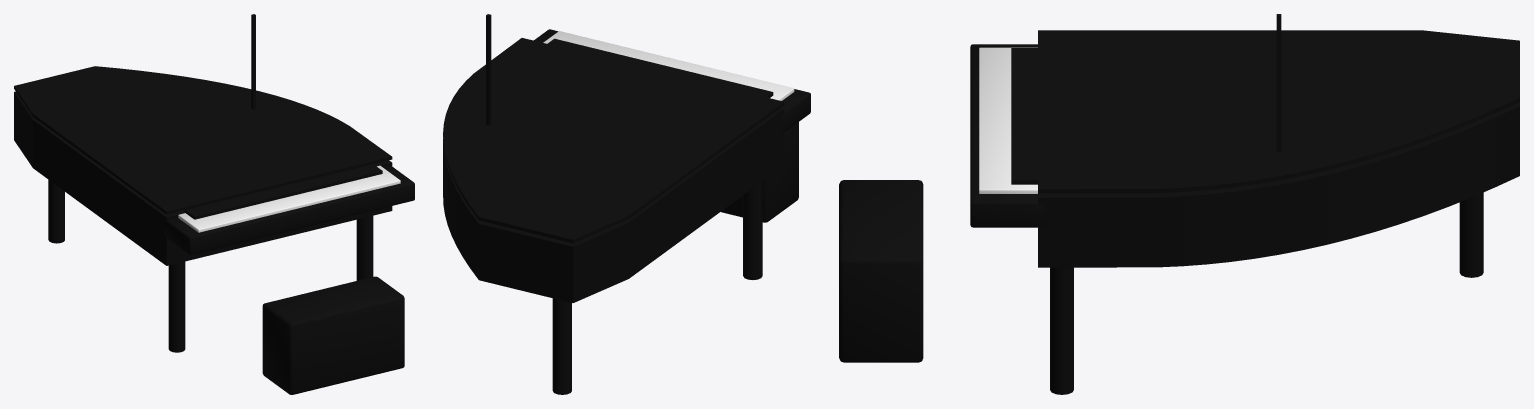
File: fur_piano.glb
3 renders of one model, left to right at view 1: azimuth 30°, elevation 25°; view 2: azimuth 150°, elevation 25°; view 3: azimuth 270°, elevation 25°, orthographic. The views are drawn at different scales.
Visible parts, largest first — view 1: FUR_piano; view 2: FUR_piano; view 3: FUR_piano.
Boxes of the visible parts, left/top/right/bottom form: FUR_piano: left=14, top=14, right=414, bottom=394; FUR_piano: left=443, top=14, right=810, bottom=394; FUR_piano: left=839, top=14, right=1519, bottom=394.
Bounding box in the file's own units: 1.56 × 1.6 × 2.82.
Materials: 1 (1 with a texture image).
